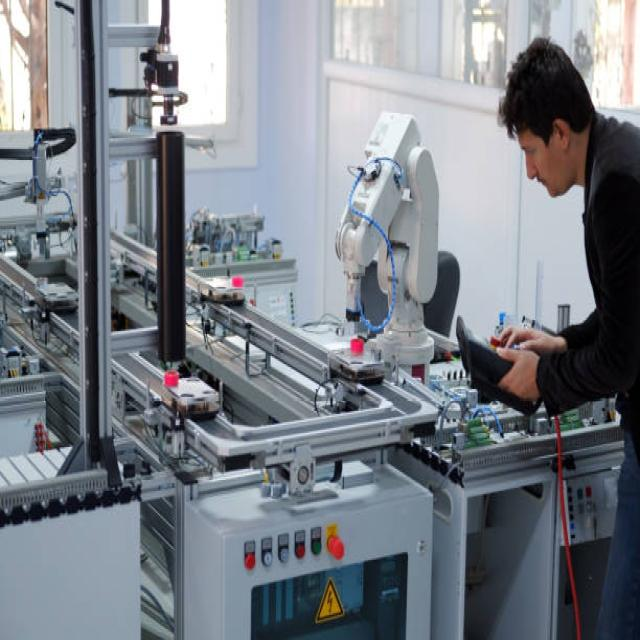Robotic-arm: (330, 103, 449, 372)
